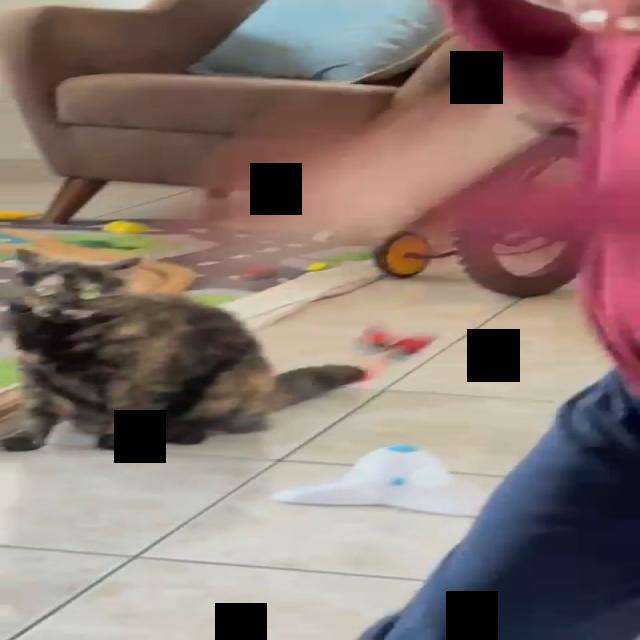authorized: (0, 248, 367, 450)
